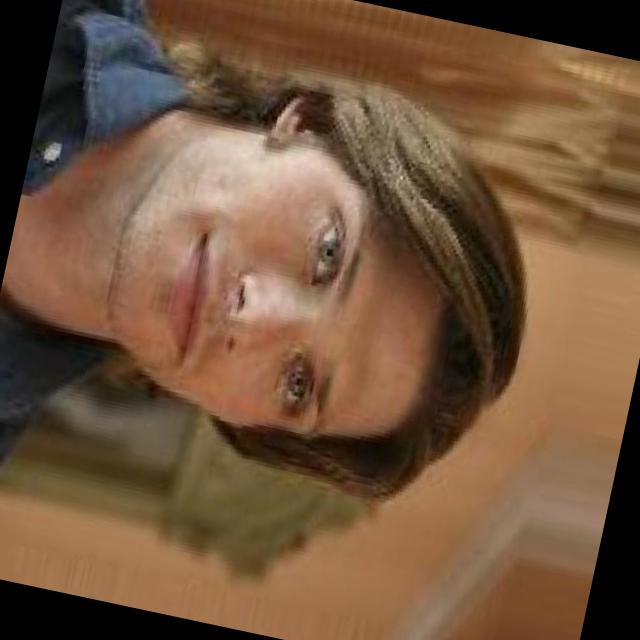bareface: (58, 67, 525, 485)
